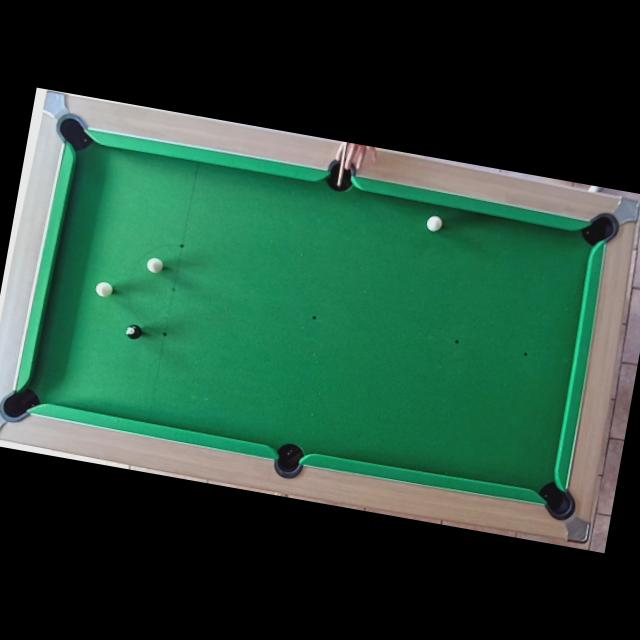Ball: (94, 280, 114, 298), (146, 256, 164, 274), (425, 214, 442, 232), (124, 322, 141, 338)
